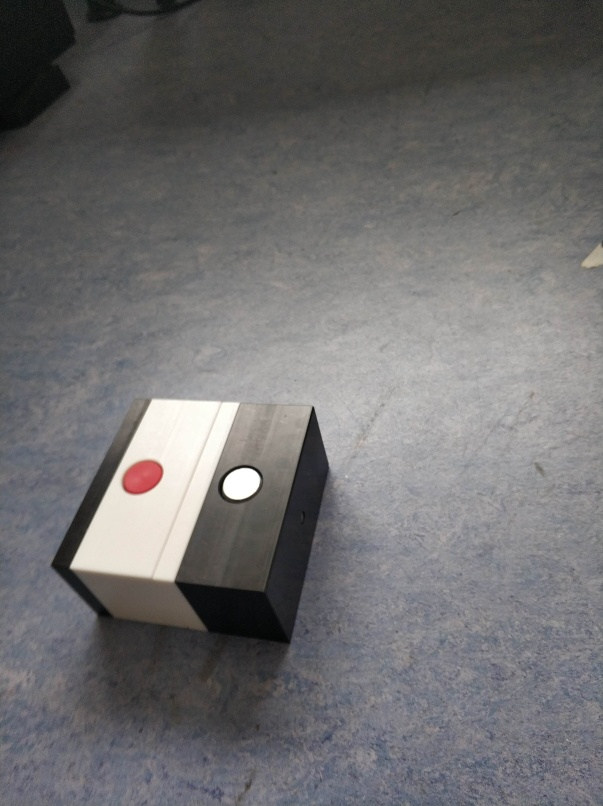black+white+red: (45, 393, 213, 628)
white+black+silver: (151, 396, 334, 647)
